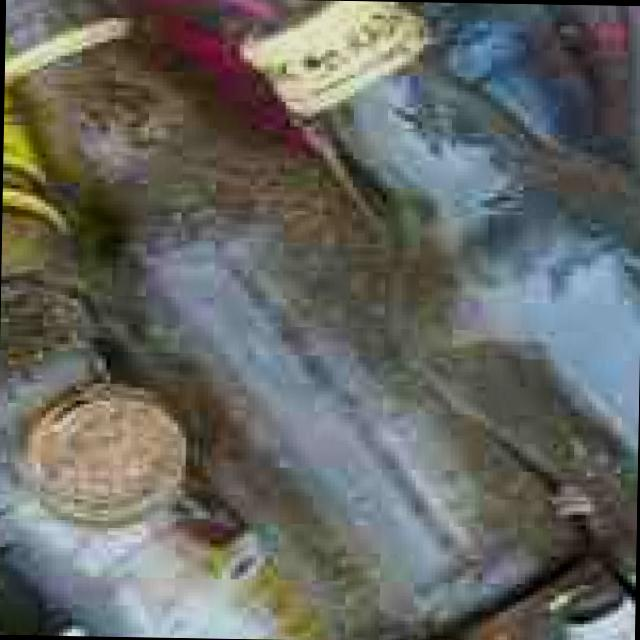chai_thuy_tinh: (17, 15, 585, 635), (294, 2, 640, 558)
kim_loai: (23, 381, 181, 521), (248, 0, 423, 116)
